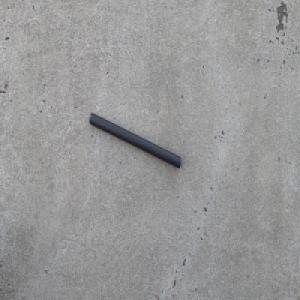LuggagePart: (89, 111, 182, 170)
